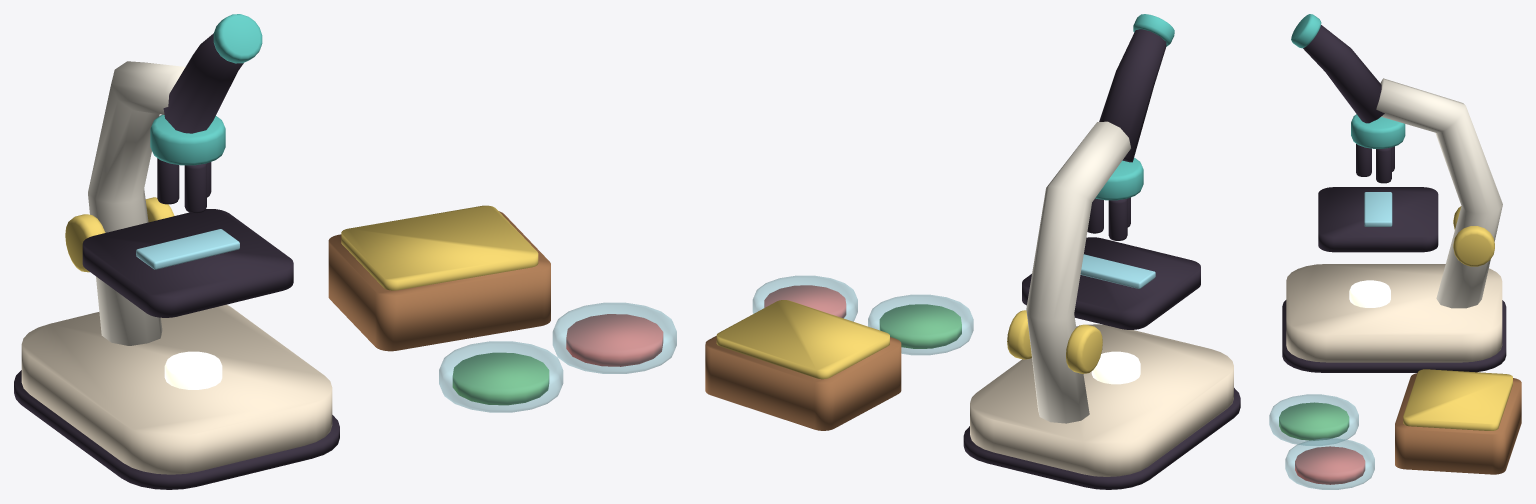
File: microscope-station.glb
3 views of the same model, side by side, from view 1: azimuth 30°, elevation 25°; view 2: azimuth 150°, elevation 25°; view 3: azimuth 270°, elevation 25° (orthographic). The views are drawn at different scales.
Parts seen in each view (by area): view 1: LabMicroscopeStation_CreamBase, LabMicroscopeStation_SlateStageAndTube, LabMicroscopeStation_GlassPetri, LabMicroscopeStation_WoodSlideBox, LabMicroscopeStation_ButterKnobs, LabMicroscopeStation_CreamArm, LabMicroscopeStation_TurquoiseTurret, LabMicroscopeStation_LeafCulture, LabMicroscopeStation_CoralCulture, LabMicroscopeStation_SkySlide, LabMicroscopeStation_GlowLamp; view 2: LabMicroscopeStation_CreamBase, LabMicroscopeStation_SlateStageAndTube, LabMicroscopeStation_CreamArm, LabMicroscopeStation_ButterKnobs, LabMicroscopeStation_WoodSlideBox, LabMicroscopeStation_GlassPetri, LabMicroscopeStation_LeafCulture, LabMicroscopeStation_TurquoiseTurret, LabMicroscopeStation_CoralCulture, LabMicroscopeStation_SkySlide, LabMicroscopeStation_GlowLamp; view 3: LabMicroscopeStation_CreamBase, LabMicroscopeStation_SlateStageAndTube, LabMicroscopeStation_CreamArm, LabMicroscopeStation_GlassPetri, LabMicroscopeStation_ButterKnobs, LabMicroscopeStation_WoodSlideBox, LabMicroscopeStation_CoralCulture, LabMicroscopeStation_LeafCulture, LabMicroscopeStation_TurquoiseTurret, LabMicroscopeStation_GlowLamp, LabMicroscopeStation_SkySlide.
Part boxes in pixels (x1,y1,x2,y2): LabMicroscopeStation_CreamBase: (21,304,332,474); LabMicroscopeStation_SlateStageAndTube: (14,33,339,489); LabMicroscopeStation_GlassPetri: (439,302,676,412); LabMicroscopeStation_WoodSlideBox: (328,211,550,351); LabMicroscopeStation_ButterKnobs: (65,197,538,290); LabMicroscopeStation_CreamArm: (88,61,185,345); LabMicroscopeStation_TurquoiseTurret: (150,14,262,165); LabMicroscopeStation_LeafCulture: (452,352,549,405); LabMicroscopeStation_CoralCulture: (566,314,663,366); LabMicroscopeStation_SkySlide: (136,229,239,269); LabMicroscopeStation_GlowLamp: (164,351,222,389); LabMicroscopeStation_CreamBase: (970,324,1233,476); LabMicroscopeStation_SlateStageAndTube: (963,29,1240,489); LabMicroscopeStation_CreamArm: (1026,121,1130,423); LabMicroscopeStation_ButterKnobs: (716,300,1102,379); LabMicroscopeStation_WoodSlideBox: (705,336,901,430); LabMicroscopeStation_GlassPetri: (752,275,973,355); LabMicroscopeStation_LeafCulture: (879,304,961,348); LabMicroscopeStation_TurquoiseTurret: (1095,14,1174,200); LabMicroscopeStation_CoralCulture: (764,285,846,318); LabMicroscopeStation_SkySlide: (1080,254,1155,288); LabMicroscopeStation_GlowLamp: (1091,351,1140,384); LabMicroscopeStation_CreamBase: (1286,264,1502,362); LabMicroscopeStation_SlateStageAndTube: (1282,25,1506,372); LabMicroscopeStation_CreamArm: (1376,78,1502,308); LabMicroscopeStation_GlassPetri: (1269,394,1374,489); LabMicroscopeStation_ButterKnobs: (1403,206,1512,430); LabMicroscopeStation_WoodSlideBox: (1395,373,1521,474); LabMicroscopeStation_CoralCulture: (1295,446,1365,484); LabMicroscopeStation_LeafCulture: (1279,402,1349,440); LabMicroscopeStation_TurquoiseTurret: (1291,14,1405,148); LabMicroscopeStation_GlowLamp: (1349,280,1390,307); LabMicroscopeStation_SkySlide: (1364,192,1392,226).
Size of the model in its own units: 0.5751 by 0.4412 by 0.3151.
